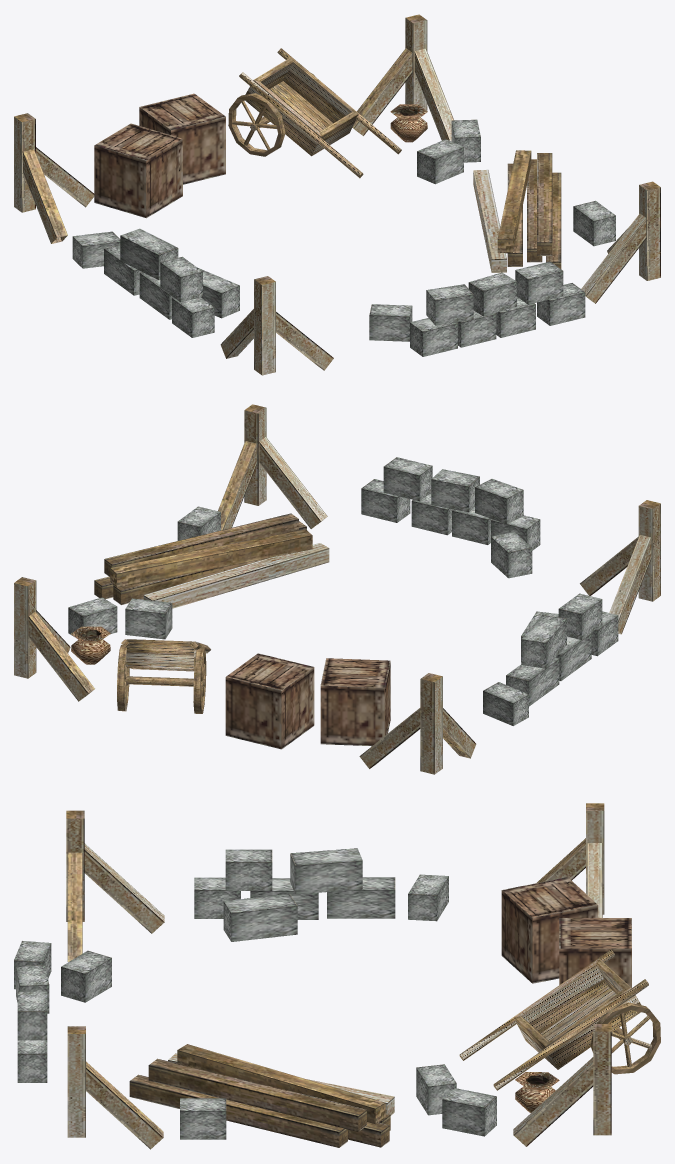
File: found_3x3_a.dae
The picture shows the model from 3 angles, top to bottom: view 1: azimuth 30°, elevation 25°; view 2: azimuth 150°, elevation 25°; view 3: azimuth 270°, elevation 25°; orthographic projection. The views are drawn at different scales.
Parts seen in each view (by area): view 1: objhand_cart_final02-Pivot; view 2: objhand_cart_final02-Pivot; view 3: objhand_cart_final02-Pivot.
Part boxes in pixels (bbox=[...]): objhand_cart_final02-Pivot: bbox=[14, 14, 660, 375]; objhand_cart_final02-Pivot: bbox=[14, 404, 660, 774]; objhand_cart_final02-Pivot: bbox=[14, 803, 660, 1149].
Bounding box in the file's own units: 14.11 × 15.57 × 3.08.
